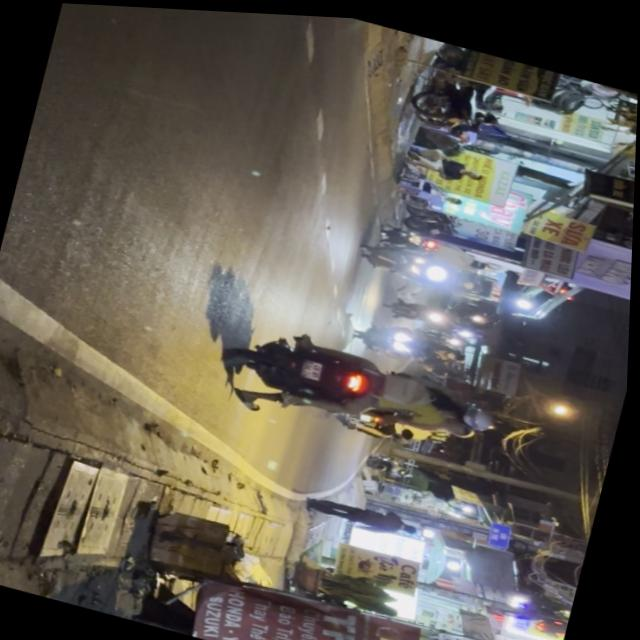helmet: (453, 394, 500, 428)
licenseplate: (216, 311, 512, 464)
nohelmet: (302, 355, 326, 378)
